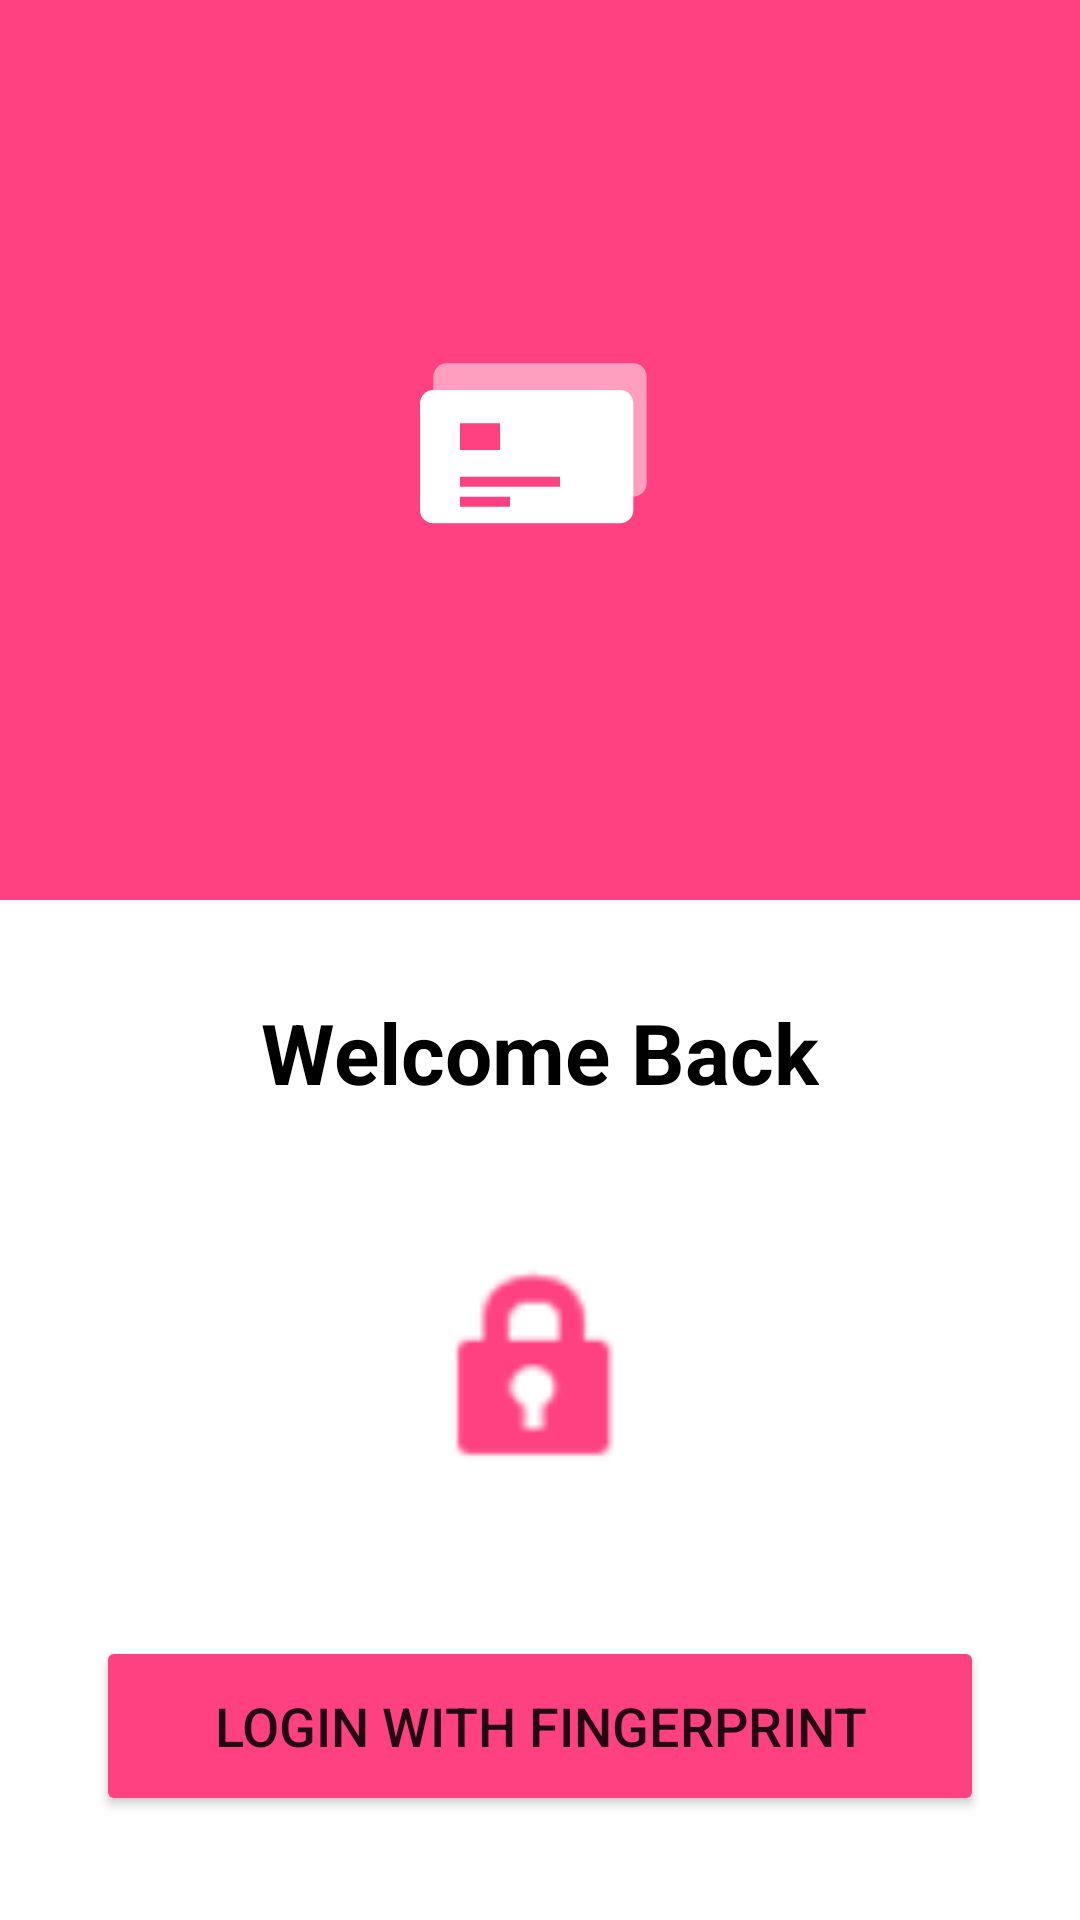

Named icons in this screenshot (1080x1920) and their bounding boxes, [x1=x1, y1=y1, x2=x2, y2=y2]:
lock idle: [x1=456, y1=1272, x2=613, y2=1456]
